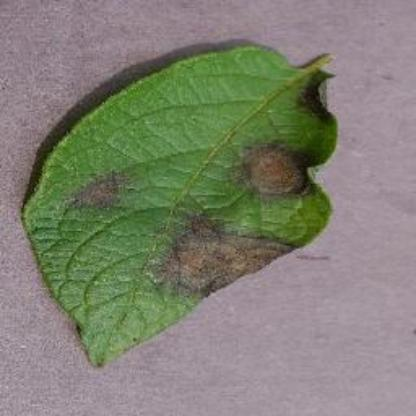Late-Blight: (18, 25, 350, 369)
